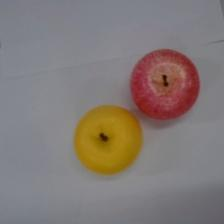red: (128, 48, 202, 120)
yellow: (72, 105, 144, 176)
